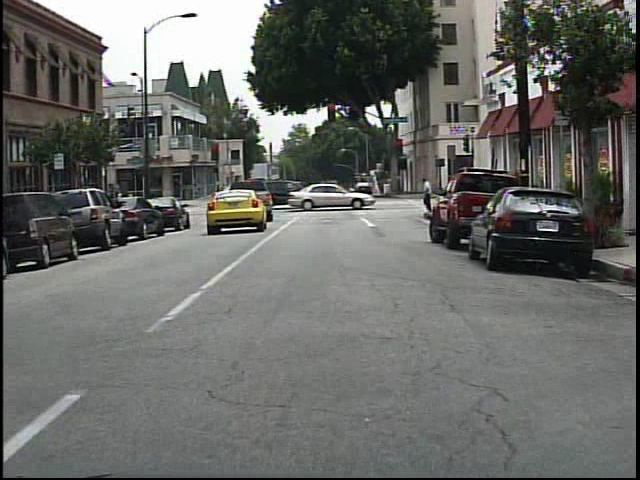person: (414, 172, 437, 216)
